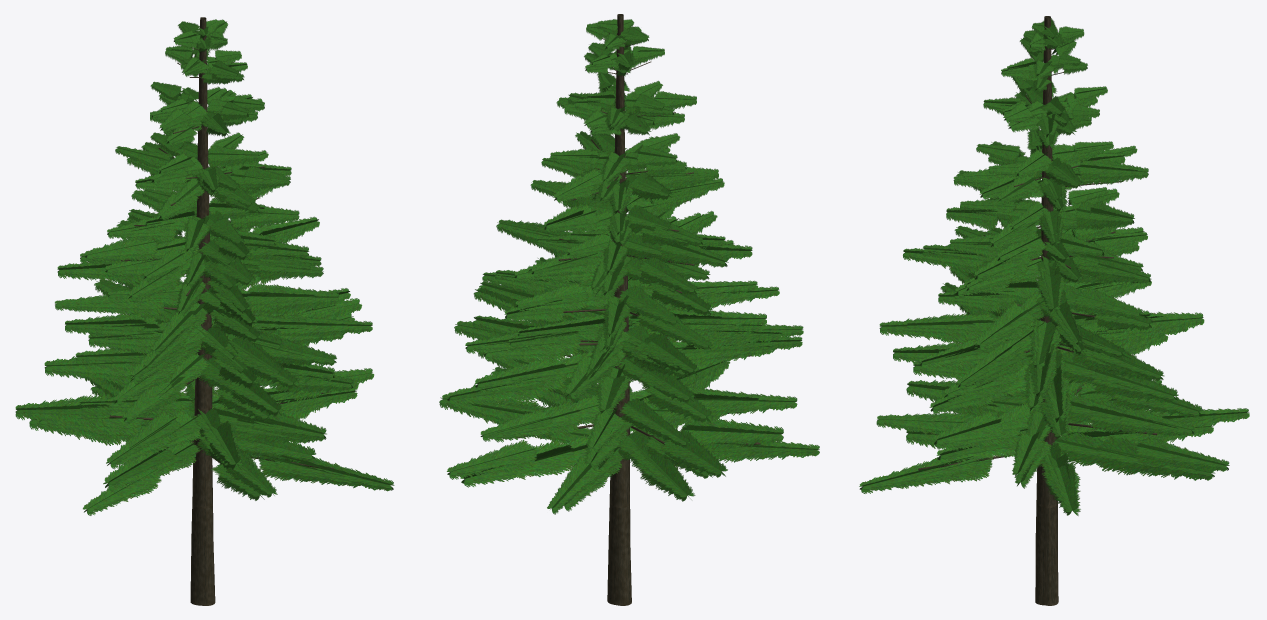
File: spruce.glb
The picture shows the model from 3 angles, left to right: view 1: azimuth 30°, elevation 25°; view 2: azimuth 150°, elevation 25°; view 3: azimuth 270°, elevation 25°; orthographic projection.
Visible parts, largest first — view 1: Leaf needle cutouts, Bark ridges; view 2: Leaf needle cutouts, Bark ridges; view 3: Leaf needle cutouts, Bark ridges.
Boxes of the visible parts, x1,y1,x2,y2 form: Leaf needle cutouts: [15, 19, 394, 515]; Bark ridges: [97, 17, 333, 605]; Leaf needle cutouts: [439, 19, 819, 514]; Bark ridges: [516, 14, 760, 605]; Leaf needle cutouts: [859, 18, 1249, 515]; Bark ridges: [918, 16, 1178, 605].
Bounding box in the file's own units: 10.79 × 18 × 11.25.
2 materials, 2 textured.
